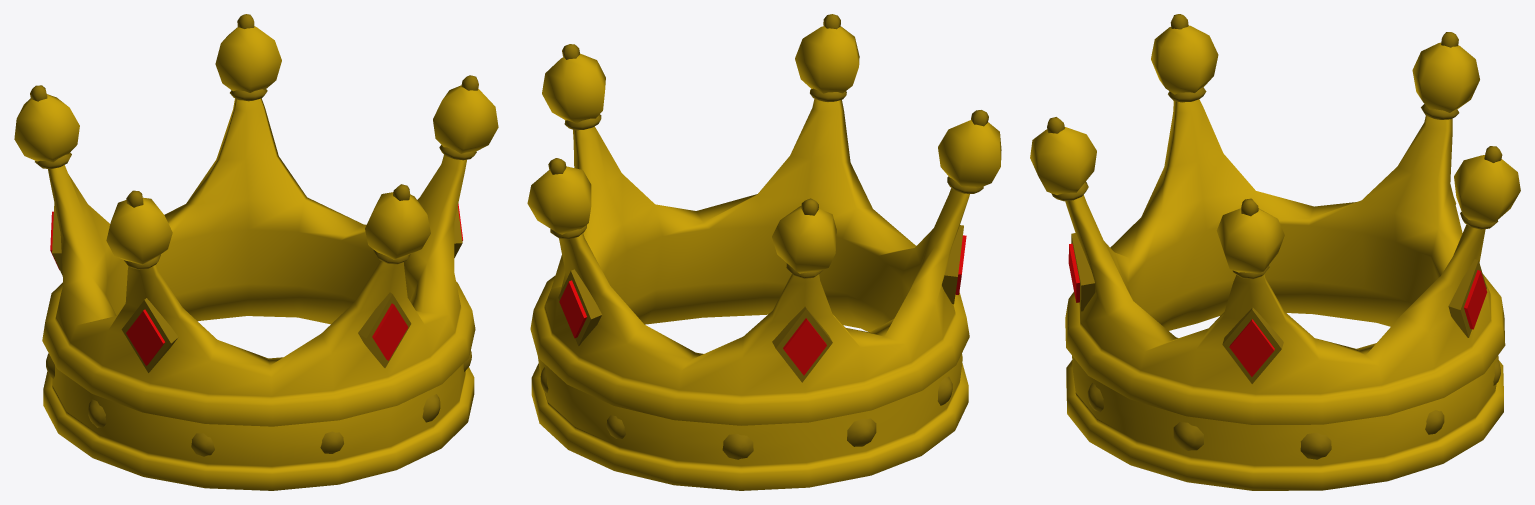
File: crown.fbx
The picture shows the model from 3 angles, left to right: view 1: azimuth 30°, elevation 25°; view 2: azimuth 150°, elevation 25°; view 3: azimuth 270°, elevation 25°; orthographic projection. The views are drawn at different scales.
Visible parts, largest first — view 1: group9_polySurface2, pSphere21, pSphere26, pSphere1, pSphere27, pSphere32, pCube1, pCube2, pCube8, pCube9; view 2: group9_polySurface2, pSphere27, pSphere26, pSphere32, pSphere21, pSphere1, pCube5, pCube4, pCube7, pCube6, pCube2, pSphere20 (+1 smaller); view 3: group9_polySurface2, pSphere1, pSphere32, pSphere21, pSphere27, pSphere26, pCube11, pCube10, pCube7, pCube8, pCube6, pSphere15 (+1 smaller).
Part boxes in pixels (bbox=[...]): group9_polySurface2: bbox=[42, 98, 475, 490]; pSphere21: bbox=[215, 26, 281, 92]; pSphere26: bbox=[433, 85, 498, 153]; pSphere1: bbox=[14, 94, 79, 162]; pSphere27: bbox=[365, 192, 430, 259]; pSphere32: bbox=[106, 197, 172, 264]; pCube1: bbox=[126, 309, 164, 365]; pCube2: bbox=[121, 298, 178, 372]; pCube8: bbox=[358, 292, 411, 367]; pCube9: bbox=[372, 303, 408, 360]; group9_polySurface2: bbox=[530, 98, 969, 490]; pSphere27: bbox=[795, 26, 859, 93]; pSphere26: bbox=[542, 53, 605, 123]; pSphere32: bbox=[938, 120, 1001, 187]; pSphere21: bbox=[527, 166, 591, 234]; pSphere1: bbox=[772, 205, 836, 273]; pCube5: bbox=[783, 318, 826, 375]; pCube4: bbox=[772, 306, 832, 382]; pCube7: bbox=[558, 269, 601, 345]; pCube6: bbox=[559, 280, 586, 338]; pCube2: bbox=[942, 225, 963, 304]; pSphere20: bbox=[847, 418, 876, 446]; group9_polySurface2: bbox=[1065, 99, 1505, 490]; pSphere1: bbox=[1412, 42, 1479, 112]; pSphere32: bbox=[1151, 25, 1218, 94]; pSphere21: bbox=[1454, 155, 1520, 224]; pSphere27: bbox=[1030, 127, 1096, 194]; pSphere26: bbox=[1216, 208, 1284, 273]; pCube11: bbox=[1229, 319, 1274, 376]; pCube10: bbox=[1222, 307, 1283, 383]; pCube7: bbox=[1448, 259, 1486, 337]; pCube8: bbox=[1071, 233, 1095, 311]; pCube6: bbox=[1464, 270, 1487, 329]; pSphere15: bbox=[1173, 422, 1203, 450].
Size of the model in its own units: 3.42 by 2.28 by 3.43.
